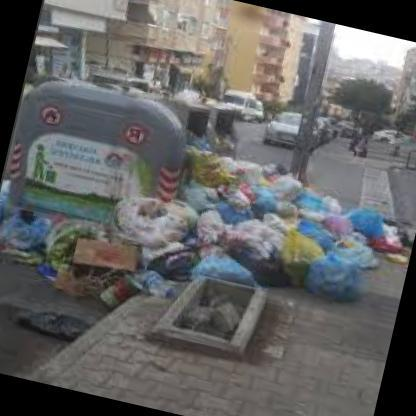Garbage: (177, 171, 406, 314), (168, 155, 324, 280), (84, 190, 174, 312), (0, 201, 95, 289), (6, 300, 95, 350)
